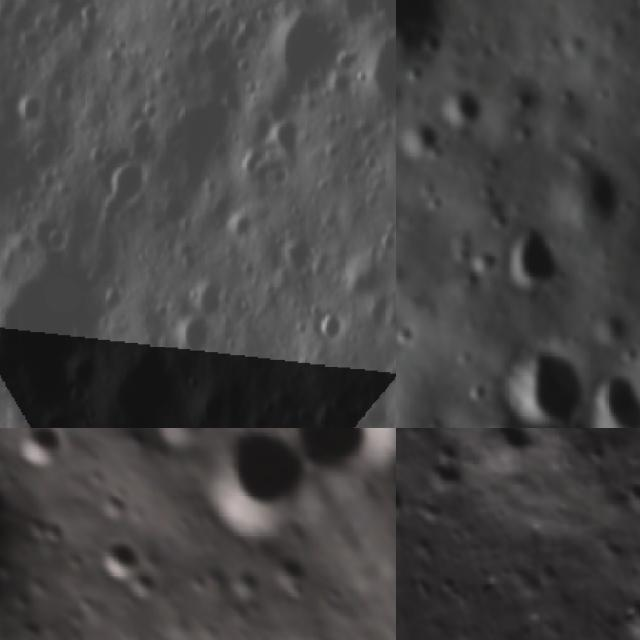crater: (178, 428, 330, 556), (0, 230, 101, 421), (249, 14, 345, 118), (493, 343, 588, 428), (462, 428, 551, 491), (552, 163, 633, 232), (500, 225, 573, 299), (258, 536, 327, 606), (579, 360, 640, 428), (89, 526, 153, 589), (396, 0, 455, 64), (10, 428, 84, 479), (213, 551, 273, 613), (362, 20, 396, 128), (416, 441, 476, 502), (23, 499, 80, 560), (176, 312, 224, 374), (599, 568, 640, 640), (436, 84, 486, 135), (60, 345, 103, 401), (396, 116, 444, 162), (6, 80, 51, 127), (611, 461, 640, 522), (307, 306, 344, 348), (136, 428, 209, 449), (468, 243, 505, 281), (210, 0, 272, 18), (396, 466, 413, 528), (396, 314, 421, 351), (462, 374, 488, 405), (514, 85, 540, 116), (453, 344, 474, 369)
